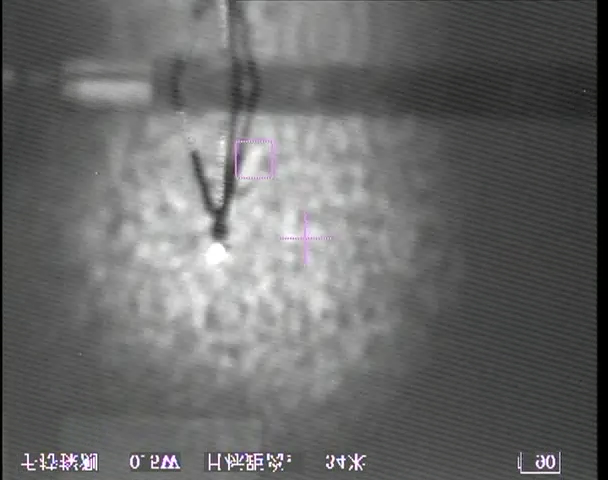my: (203, 240, 229, 267)
